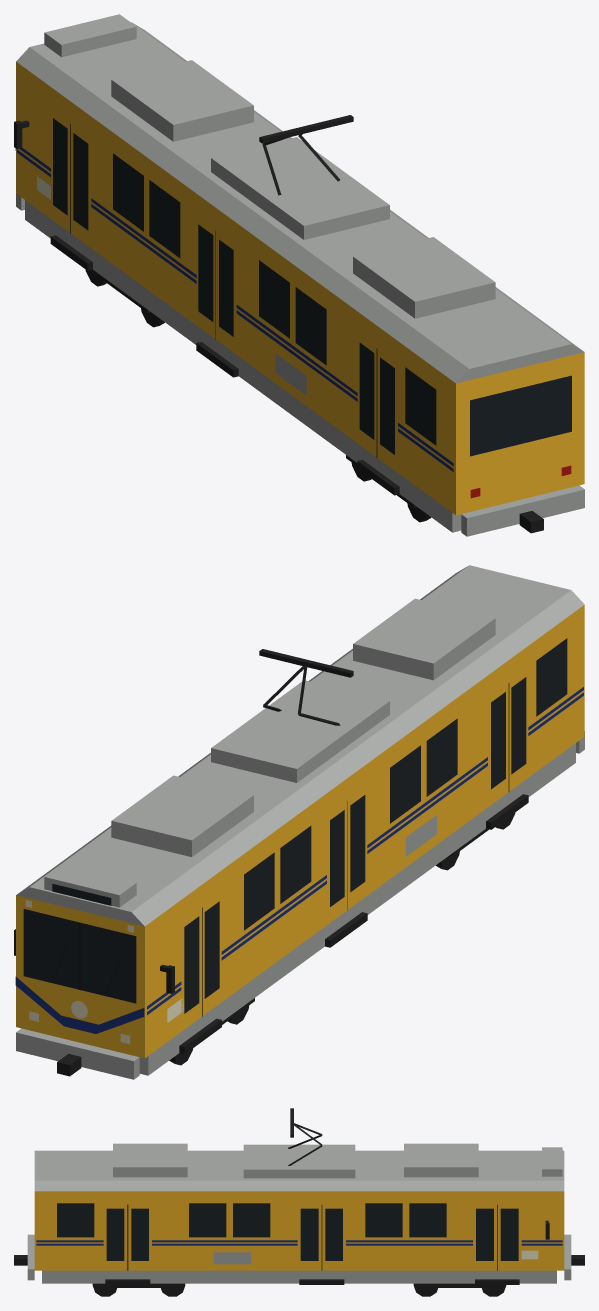
Rendered from tram.glb.
3 views of the same model, one above another, from view 1: azimuth 30°, elevation 25°; view 2: azimuth 150°, elevation 25°; view 3: azimuth 270°, elevation 25° (orthographic). The views are drawn at different scales.
Visible parts, largest first — view 1: AlexTram; view 2: AlexTram; view 3: AlexTram.
Part boxes in pixels (bbox=[...]): AlexTram: bbox=[14, 14, 584, 536]; AlexTram: bbox=[14, 565, 584, 1079]; AlexTram: bbox=[14, 1108, 584, 1296].
Bounding box in the file's own units: 2.94 × 4.78 × 15.3.
Materials: 1 (1 with a texture image).
